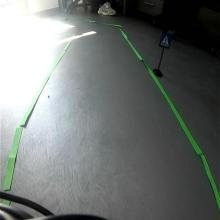crosswalk: (158, 32, 172, 49)
